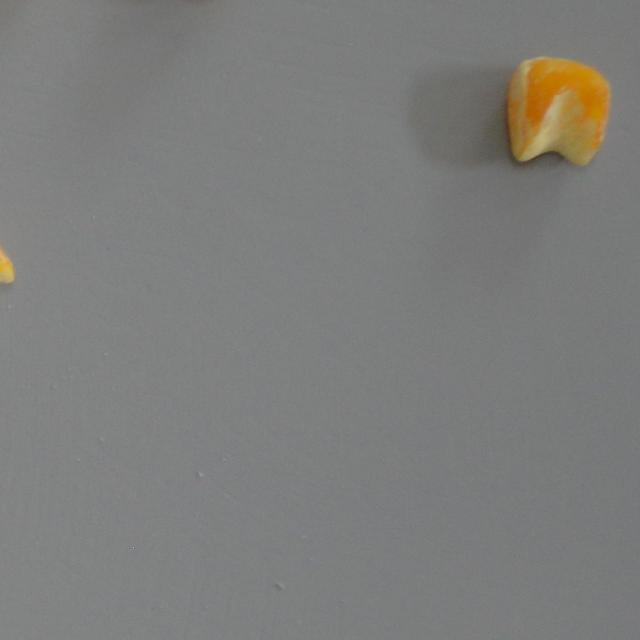pelicula: (506, 56, 610, 166)
